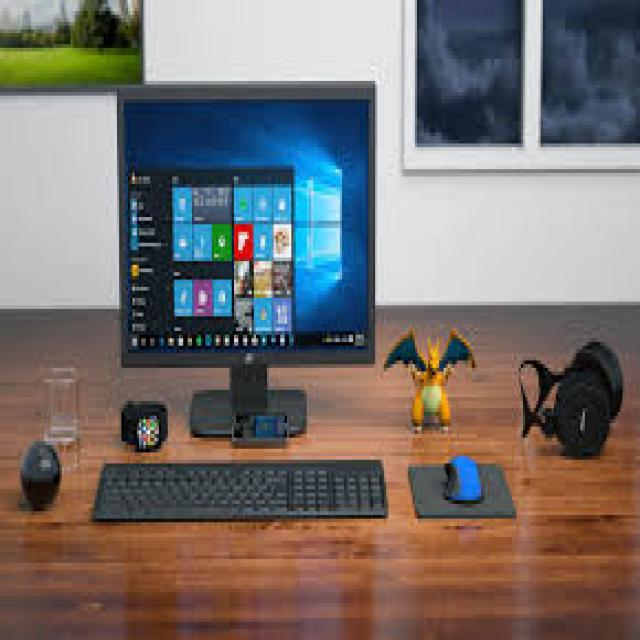komputer: (120, 82, 379, 443)
